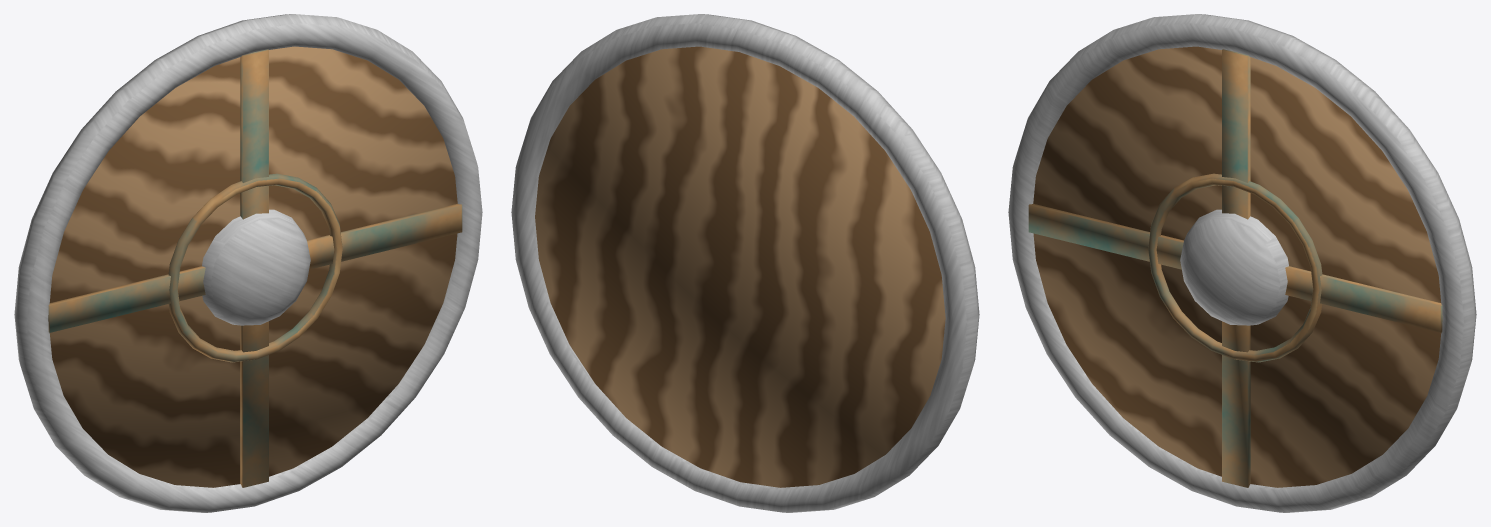
Rendered from escudo.glb.
3 renders of one model, left to right at view 1: azimuth 30°, elevation 25°; view 2: azimuth 150°, elevation 25°; view 3: azimuth 330°, elevation 25°, orthographic.
Visible parts, largest first — view 1: Escudo; view 2: Escudo; view 3: Escudo.
Part boxes in pixels (left/top/right/bottom): Escudo: left=14, top=14, right=482, bottom=512; Escudo: left=511, top=14, right=979, bottom=512; Escudo: left=1008, top=14, right=1476, bottom=512.
Bounding box in the file's own units: 2.14 × 2.14 × 0.26.
3 materials, 3 textured.
